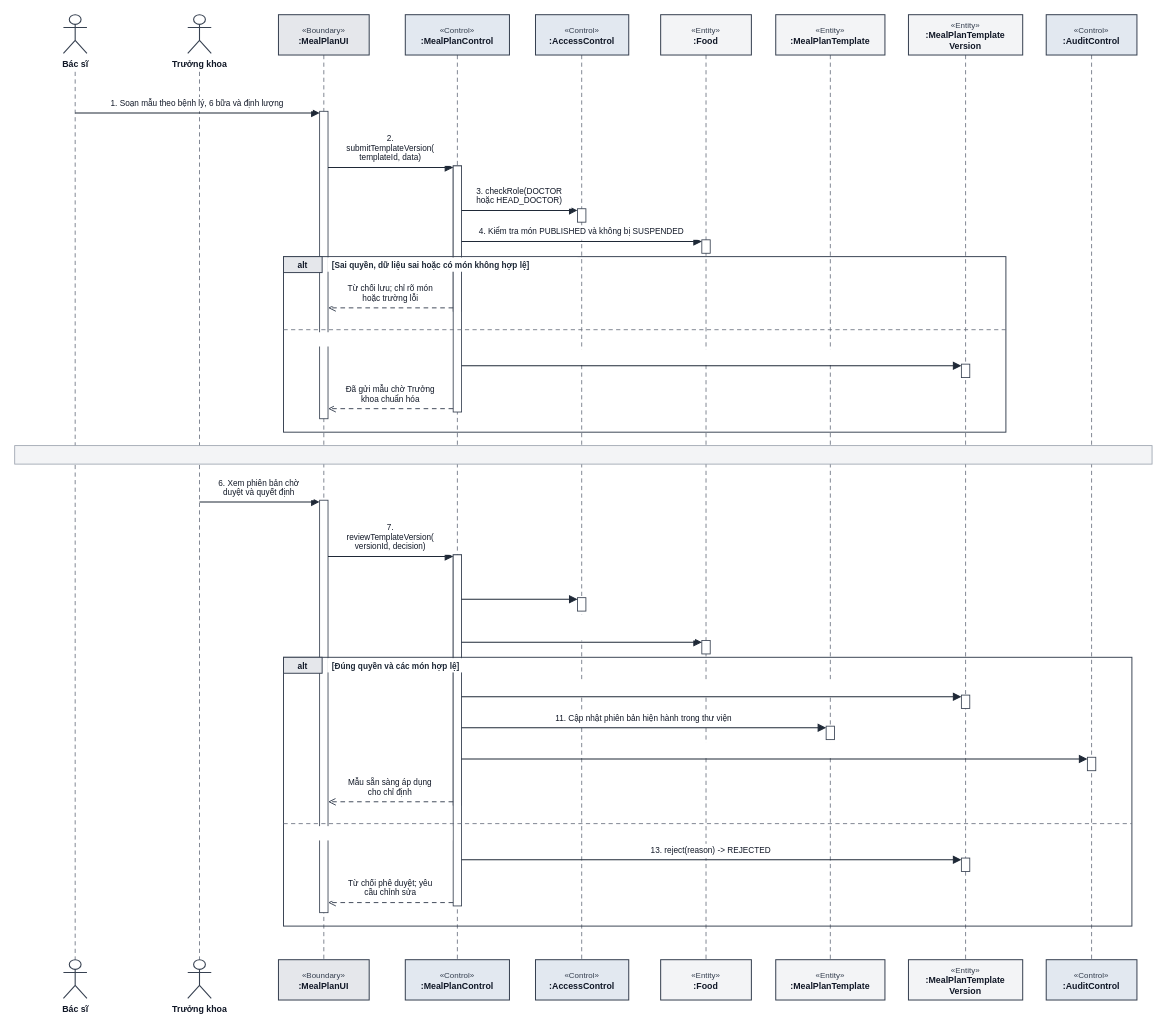
This 1167x1030 diagram has some shape labels left out. The shapes that lost their labels are listed below. From the top down, each one's centre as x and y in pixels, then its label:
point 315,339: [Hợp lệ]
point 710,356: 5. Tính tổng dinh dưỡng và lưu phiên bản PENDING_APPROVAL (giữ bản PUBLISHED cũ)
point 583,454: Phê duyệt phiên bản thực đơn mẫu
point 519,584: 8. checkRole( HEAD_DOCTOR)
point 582,627: 9. Kiểm tra lại trạng thái hiện hành các món trong mẫu
point 711,687: 10. approve() -> PUBLISHED (bản PUBLISHED trước -> SUPERSEDED)
point 773,750: 12. record(TEMPLATE_VERSION_PUBLISHED)
point 371,833: [Từ chối hoặc có món SUSPENDED]
